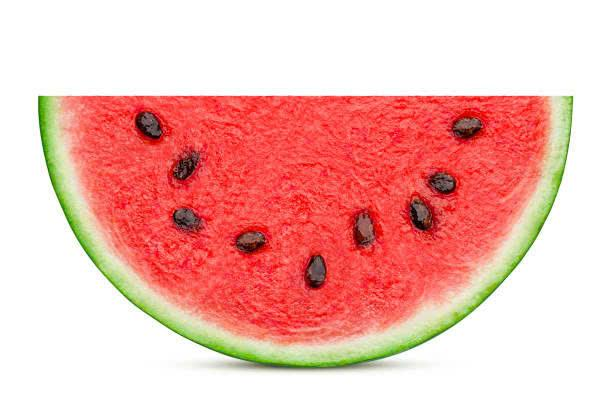watermelon: (22, 50, 575, 385)
